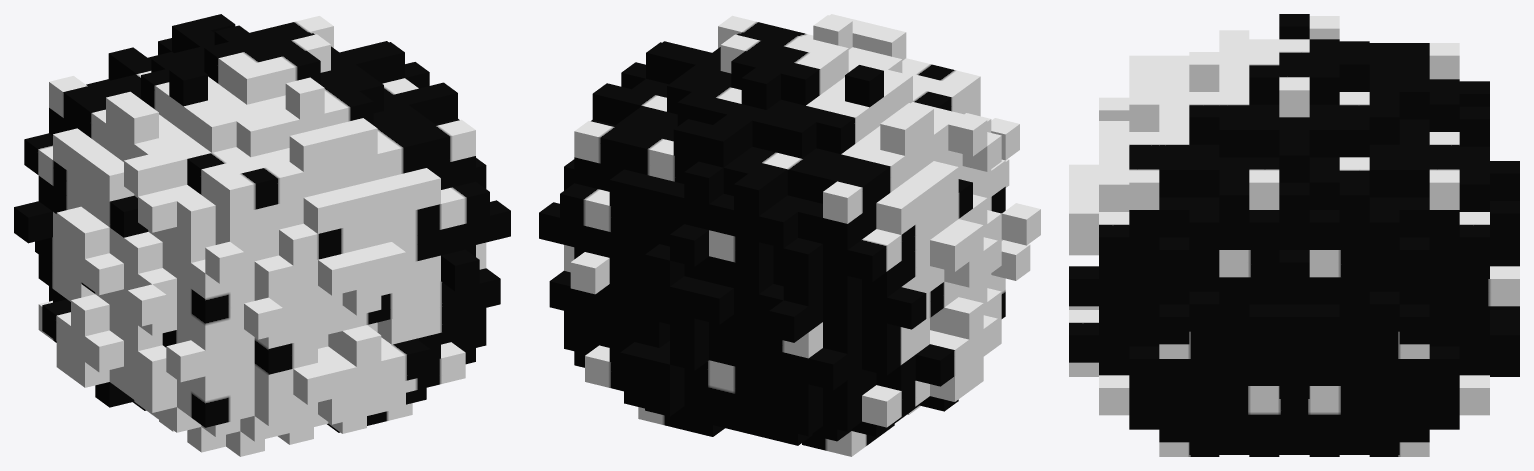
The model's file is TreeFoliageWhite.obj.
The picture shows the model from 3 angles, left to right: view 1: azimuth 30°, elevation 25°; view 2: azimuth 150°, elevation 25°; view 3: azimuth 270°, elevation 25°; orthographic projection. The views are drawn at different scales.
Parts seen in each view (by area): view 1: TreeFoliage; view 2: TreeFoliage; view 3: TreeFoliage.
Part boxes in pixels (x1=…): TreeFoliage: x1=14, y1=14, x2=510, y2=456; TreeFoliage: x1=539, y1=14, x2=1040, y2=456; TreeFoliage: x1=1069, y1=14, x2=1519, y2=456.
Bounding box in the file's own units: 1.5 × 1.3 × 1.5.
1 material, 1 textured.
